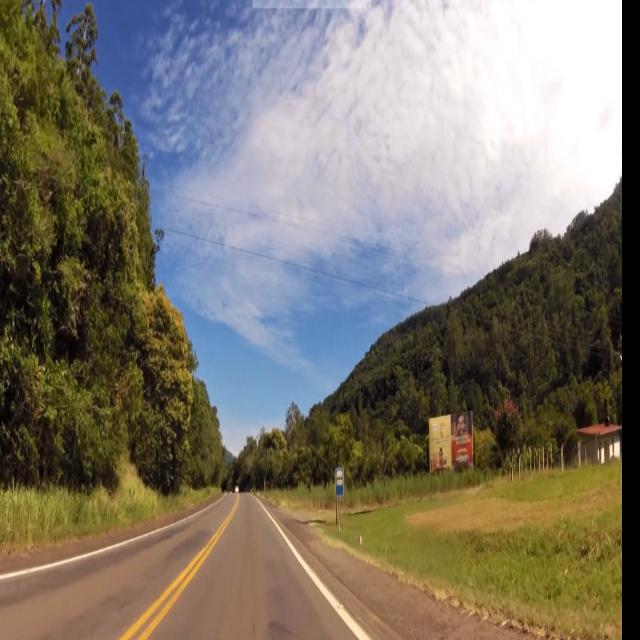S-14: (335, 468, 345, 497)
